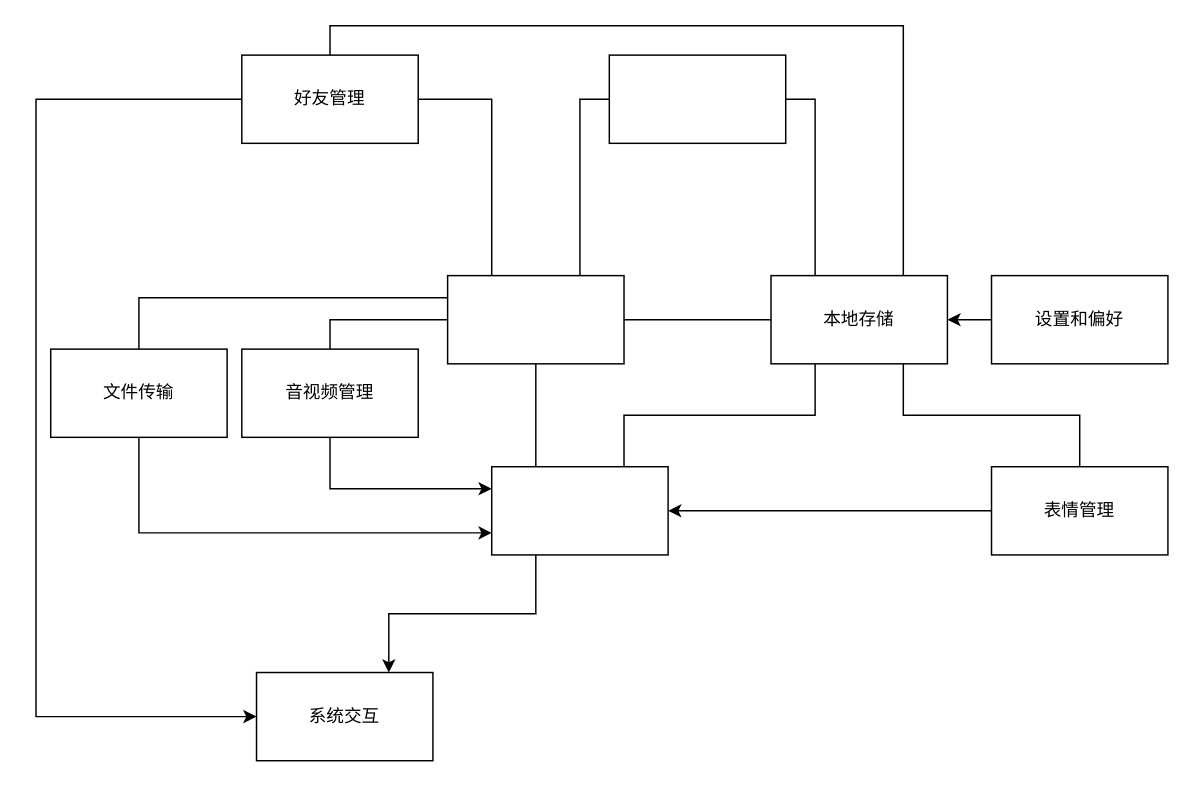
The diagram is 1194 pixels wide and 786 high, and some of its shapes have lost their labels. Here are the shapes that lost their labels. From the top down, the centre of each, then its label:
At point (697, 98): "用户管理".
At point (535, 319): "网络通信".
At point (579, 510): "聊天管理".
